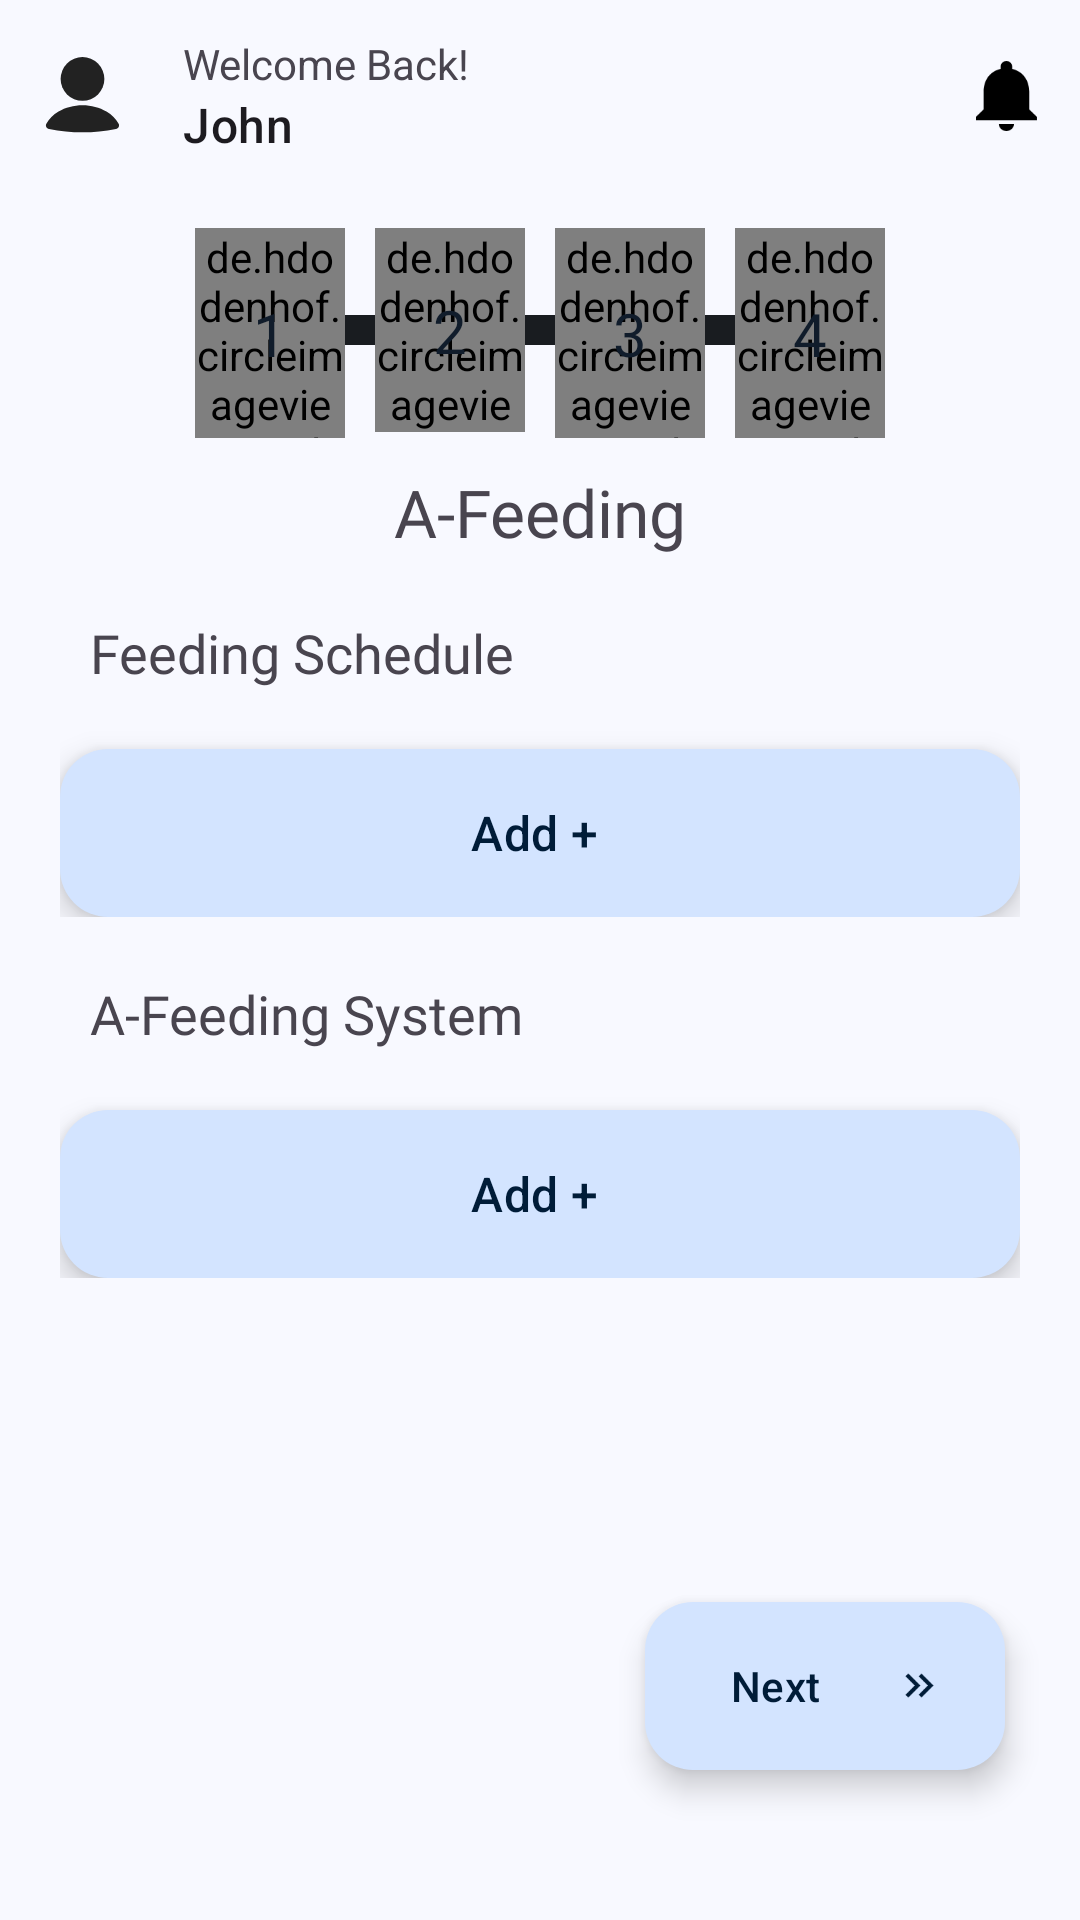

Screen size 1080px×1920px. Icon name, then its center in pixels as point (x, y):
user: point (82, 95)
